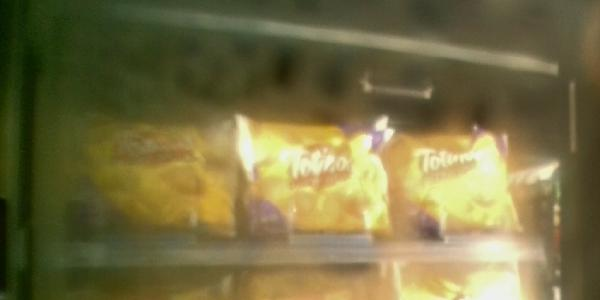icecream: (64, 96, 244, 259), (230, 101, 394, 249), (381, 131, 529, 247)
